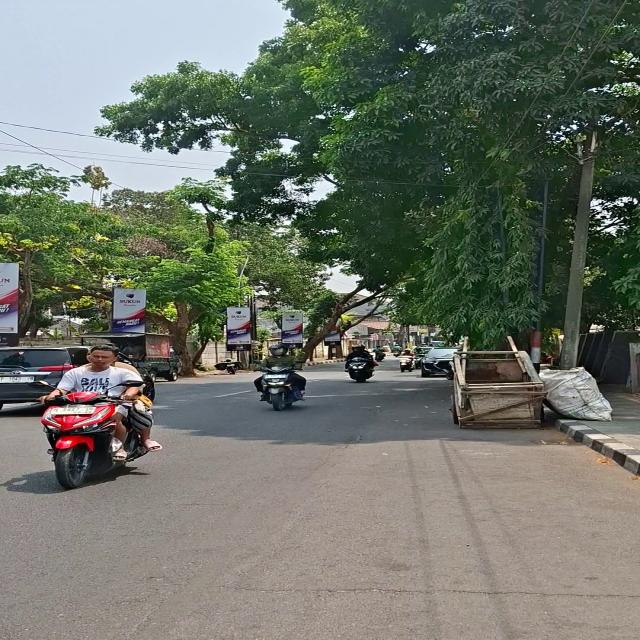WithHelmet: (253, 343, 305, 402), (344, 346, 379, 375), (398, 348, 419, 368), (372, 347, 385, 362), (390, 342, 403, 354)
WithoutHelmet: (41, 344, 164, 490)
